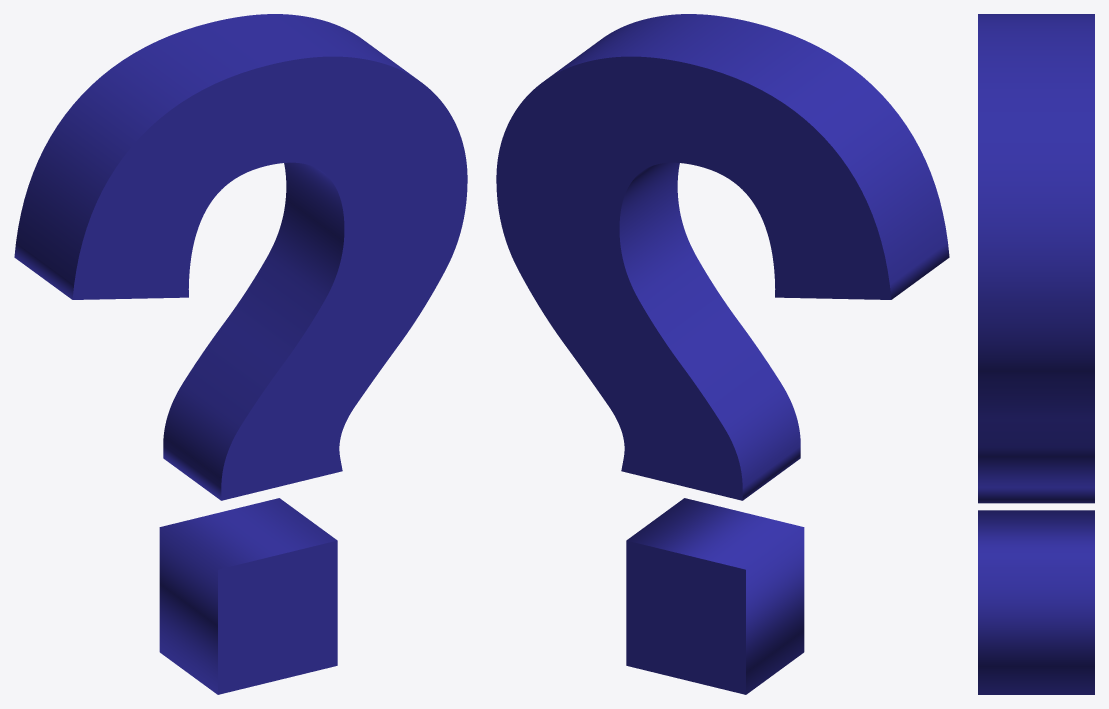
File: mystere.gltf
The picture shows the model from 3 angles, left to right: view 1: azimuth 30°, elevation 25°; view 2: azimuth 150°, elevation 25°; view 3: azimuth 270°, elevation 25°; orthographic projection.
Parts seen in each view (by area): view 1: Text; view 2: Text; view 3: Text.
Part boxes in pixels (<box>): Text: <box>14,14,467,694</box>; Text: <box>496,14,949,694</box>; Text: <box>978,14,1094,694</box>.
Size of the model in its own units: 6.52 by 9.73 by 1.66.
